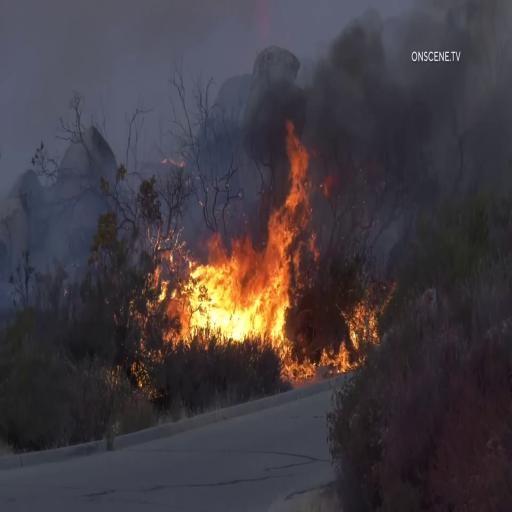fire: (176, 133, 318, 346)
smoke: (338, 25, 414, 265)
